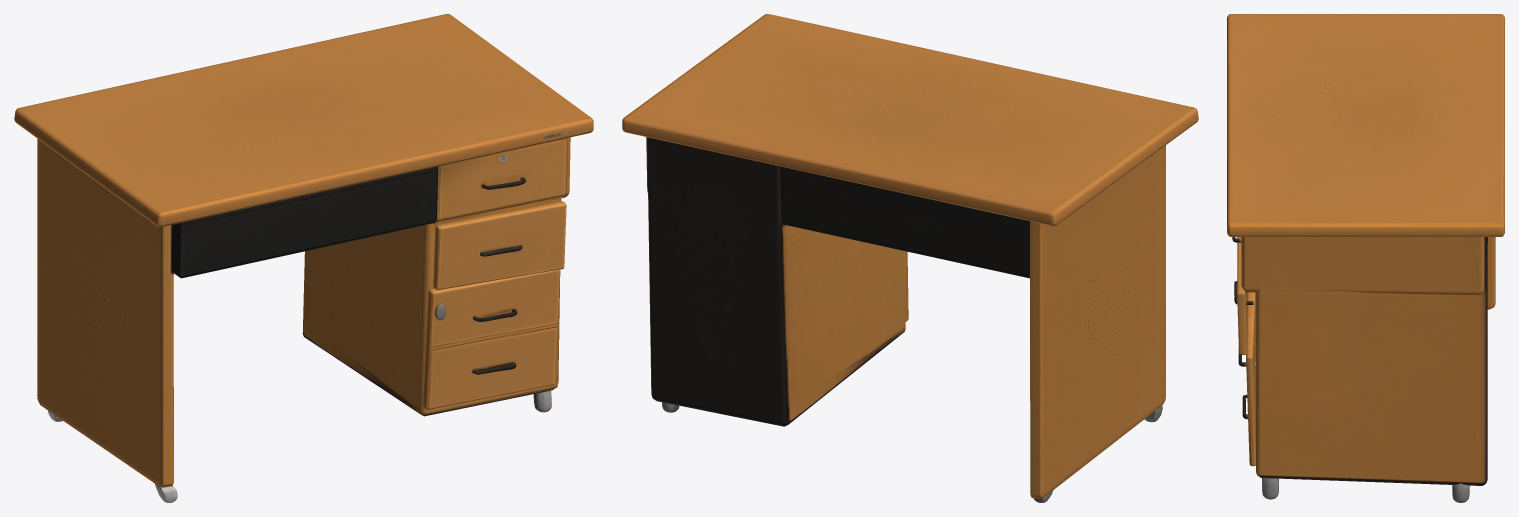
Rendered from bench.glb.
3 renders of one model, left to right at view 1: azimuth 30°, elevation 25°; view 2: azimuth 150°, elevation 25°; view 3: azimuth 270°, elevation 25°, orthographic. The views are drawn at different scales.
Parts seen in each view (by area): view 1: tripo_node_6af34a85-8621-4785-8633-503f6ace66c5; view 2: tripo_node_6af34a85-8621-4785-8633-503f6ace66c5; view 3: tripo_node_6af34a85-8621-4785-8633-503f6ace66c5.
Boxes of the visible parts, x1,y1,x2,y2 form: tripo_node_6af34a85-8621-4785-8633-503f6ace66c5: (14, 14, 593, 502); tripo_node_6af34a85-8621-4785-8633-503f6ace66c5: (622, 14, 1198, 502); tripo_node_6af34a85-8621-4785-8633-503f6ace66c5: (1227, 14, 1504, 502).
Size of the model in its own units: 1 by 0.6864 by 0.5789.
1 material, 1 textured.
